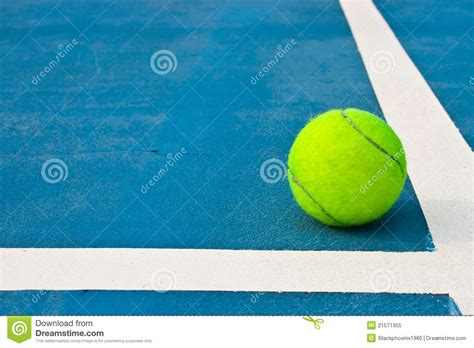tennis_ball: (287, 108, 407, 227)
